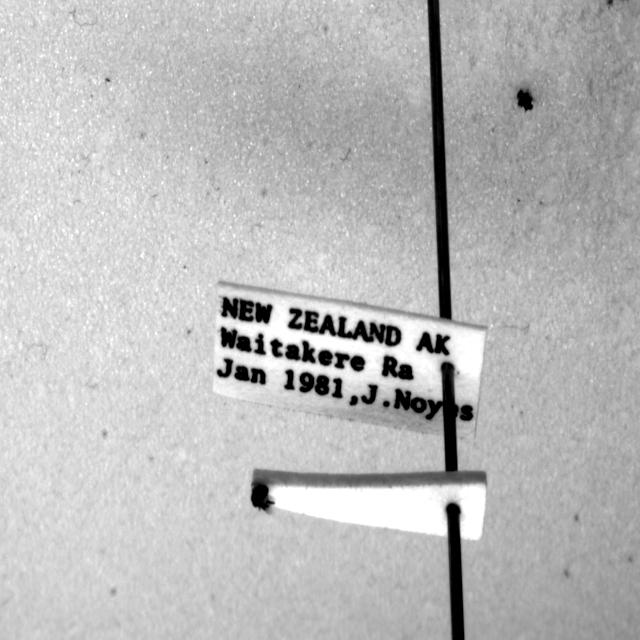typed_label: (212, 283, 486, 439)
